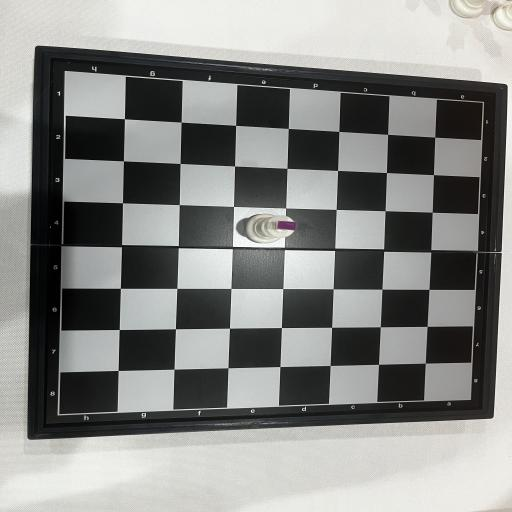White king: (244, 214, 296, 244)
